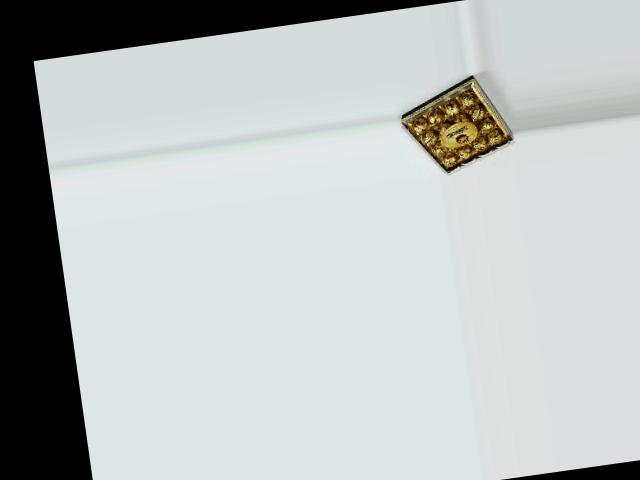chocolate: (394, 68, 518, 181)
